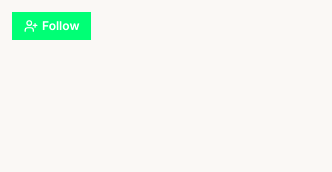
CuratedFollowButton accessibility › flips aria-label and aria-pressed in sync with state
This screenshot has width=332, height=172.
Click the button.
click(52, 26)  # box [12,12,92,40]
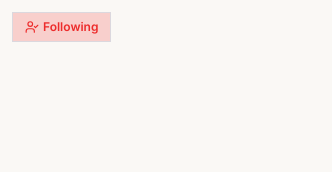
Expected: the button has attribute aria-label="Unfollow Arya XO", [12,12,112,42]
Expected: the button is pressed, [12,12,112,42]
